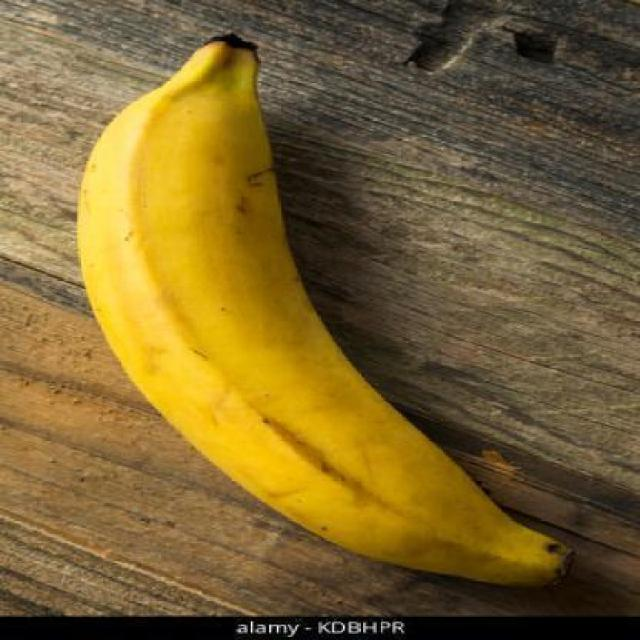banana: (80, 38, 574, 588)
